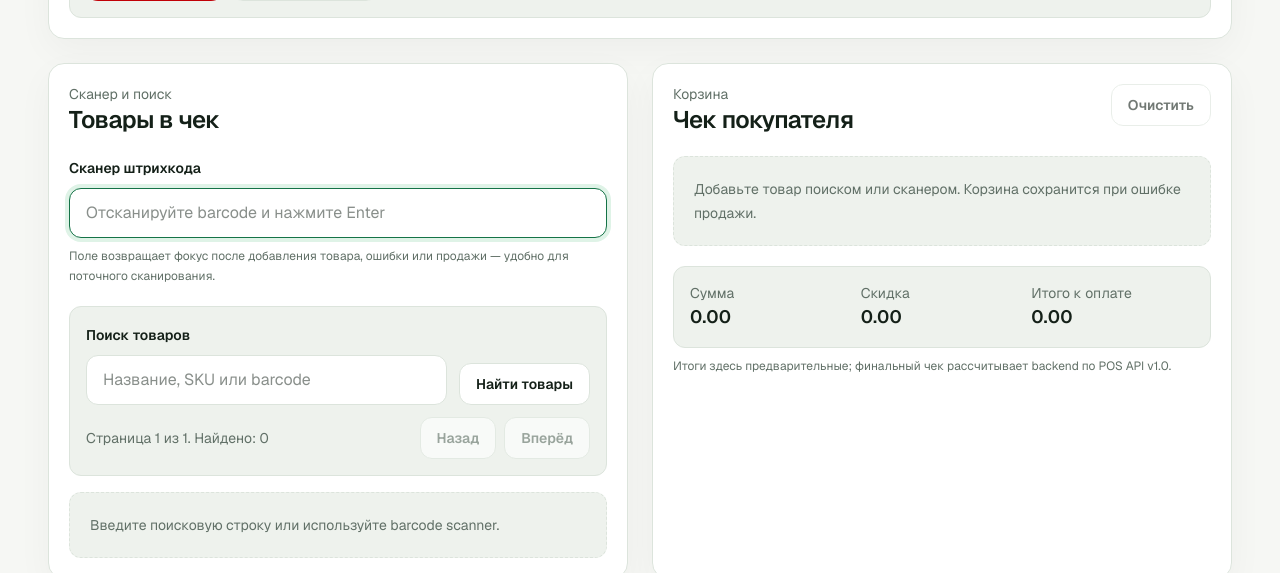
Test: POSManager scanner, cart and sale › keeps cart on insufficient stock and retries with the same idempotency key
(page scrolled)
Type "460123" into the field labelled "Сканер штрихкода" at (338, 213), box top-left (69, 188), bottom-right (607, 238)
Then press Enter
(page scrolled)
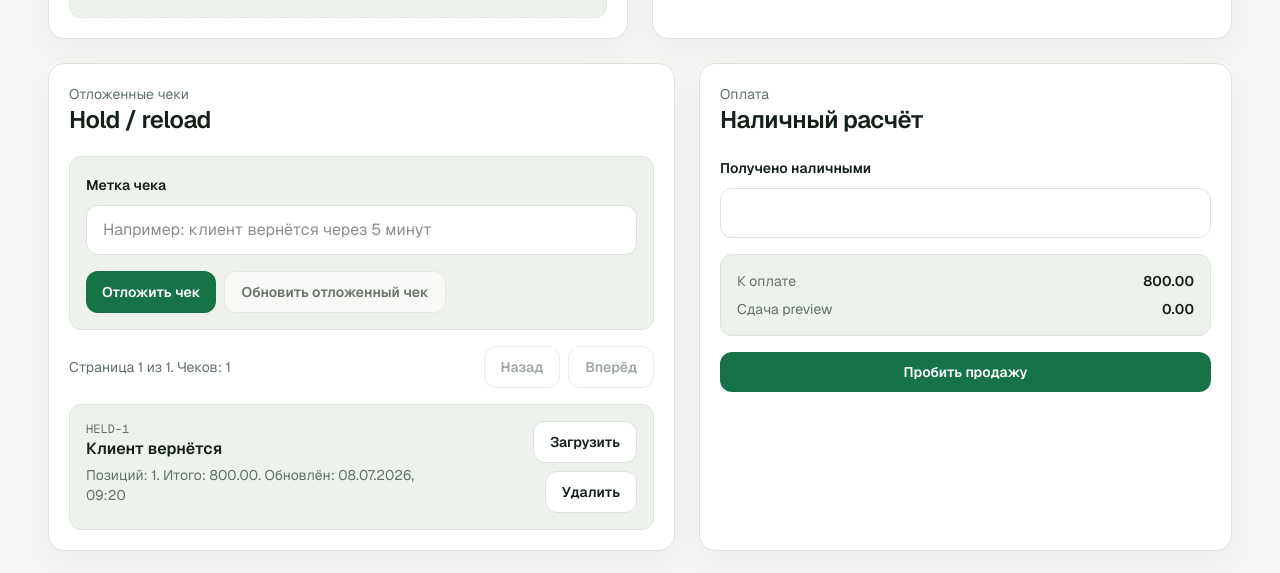
Type "1000" into the field labelled "Получено наличными" at (966, 213), box top-left (720, 188), bottom-right (1211, 238)
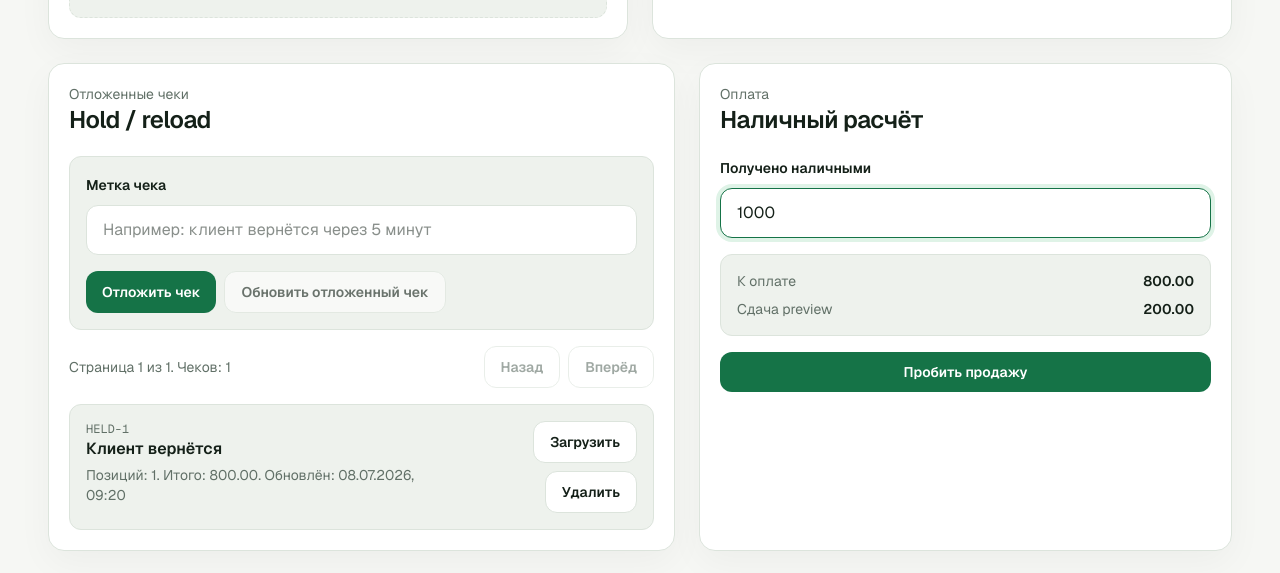
Click the button "Пробить продажу" at (966, 372), box top-left (720, 352), bottom-right (1211, 392)
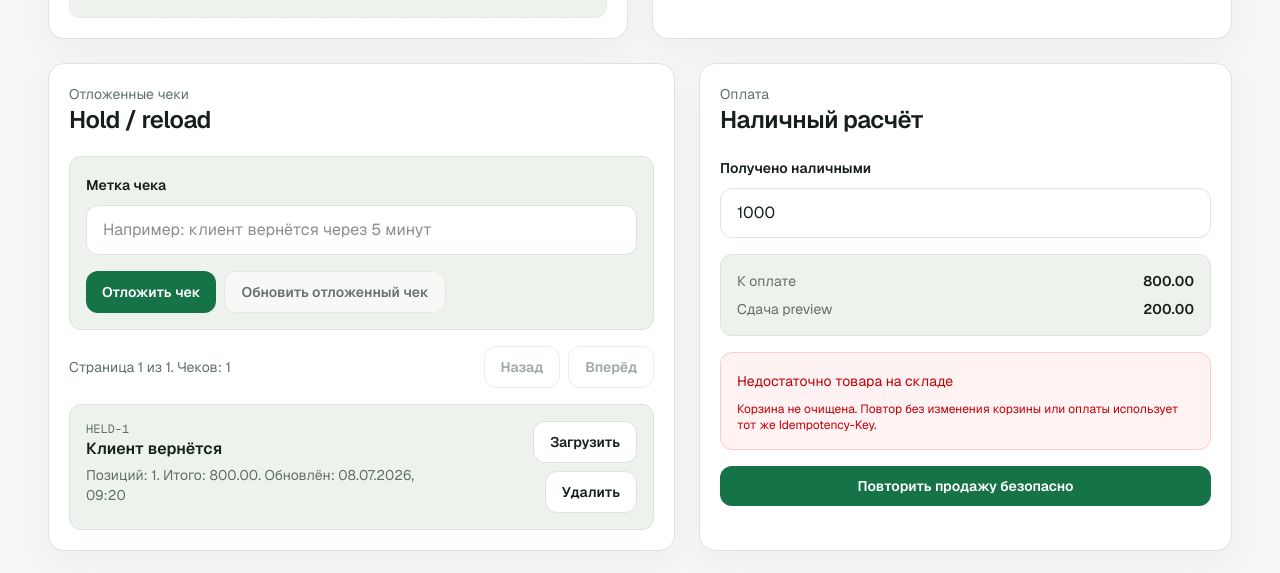
Expected: the text "Недостаточно товара на складе" is shown, top-left (737, 372), bottom-right (953, 390)
Click the button "Повторить продажу безопасно" at (966, 486), box top-left (720, 466), bottom-right (1211, 506)
(page scrolled)
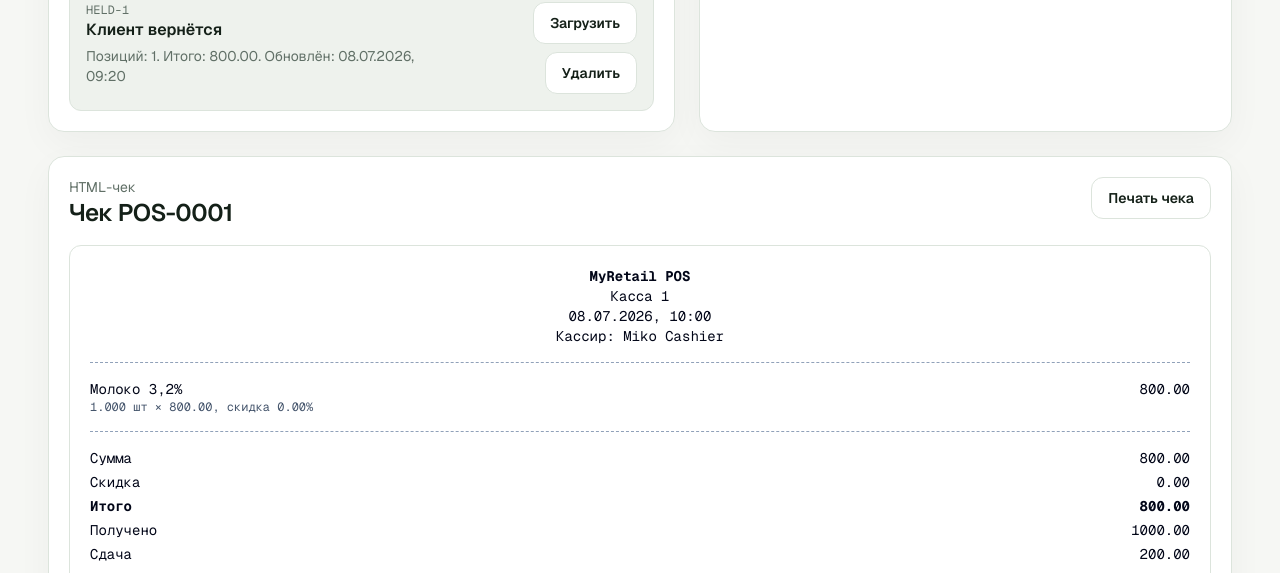
Expected: the heading "Чек POS-0001" is shown, top-left (69, 197), bottom-right (233, 229)
